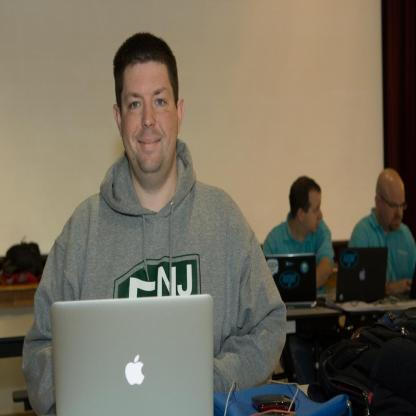board: (49, 293, 214, 416), (317, 247, 387, 306), (265, 254, 317, 308)
